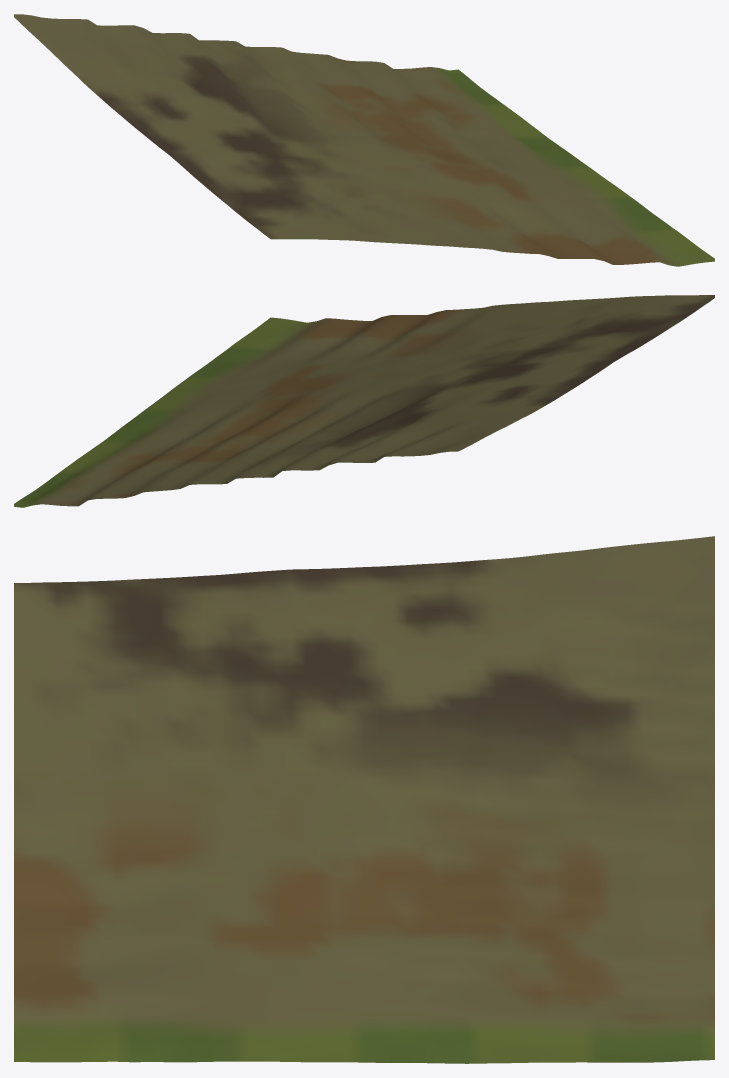
The model's file is land_m_06_08.glb.
3 views of the same model, one above another, from view 1: azimuth 30°, elevation 25°; view 2: azimuth 150°, elevation 25°; view 3: azimuth 270°, elevation 25° (orthographic). The views are drawn at different scales.
Parts seen in each view (by area): view 1: land_m_06_08; view 2: land_m_06_08; view 3: land_m_06_08.
Part boxes in pixels (left/top/right/bottom): land_m_06_08: left=14, top=14, right=714, bottom=266; land_m_06_08: left=14, top=295, right=714, bottom=507; land_m_06_08: left=14, top=536, right=714, bottom=1063.
Size of the model in its own units: 960 by 350 by 960.
